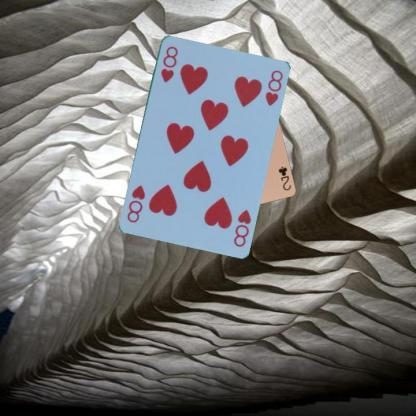2c: (276, 163, 292, 192)
8h: (230, 206, 252, 248), (158, 43, 179, 84)
